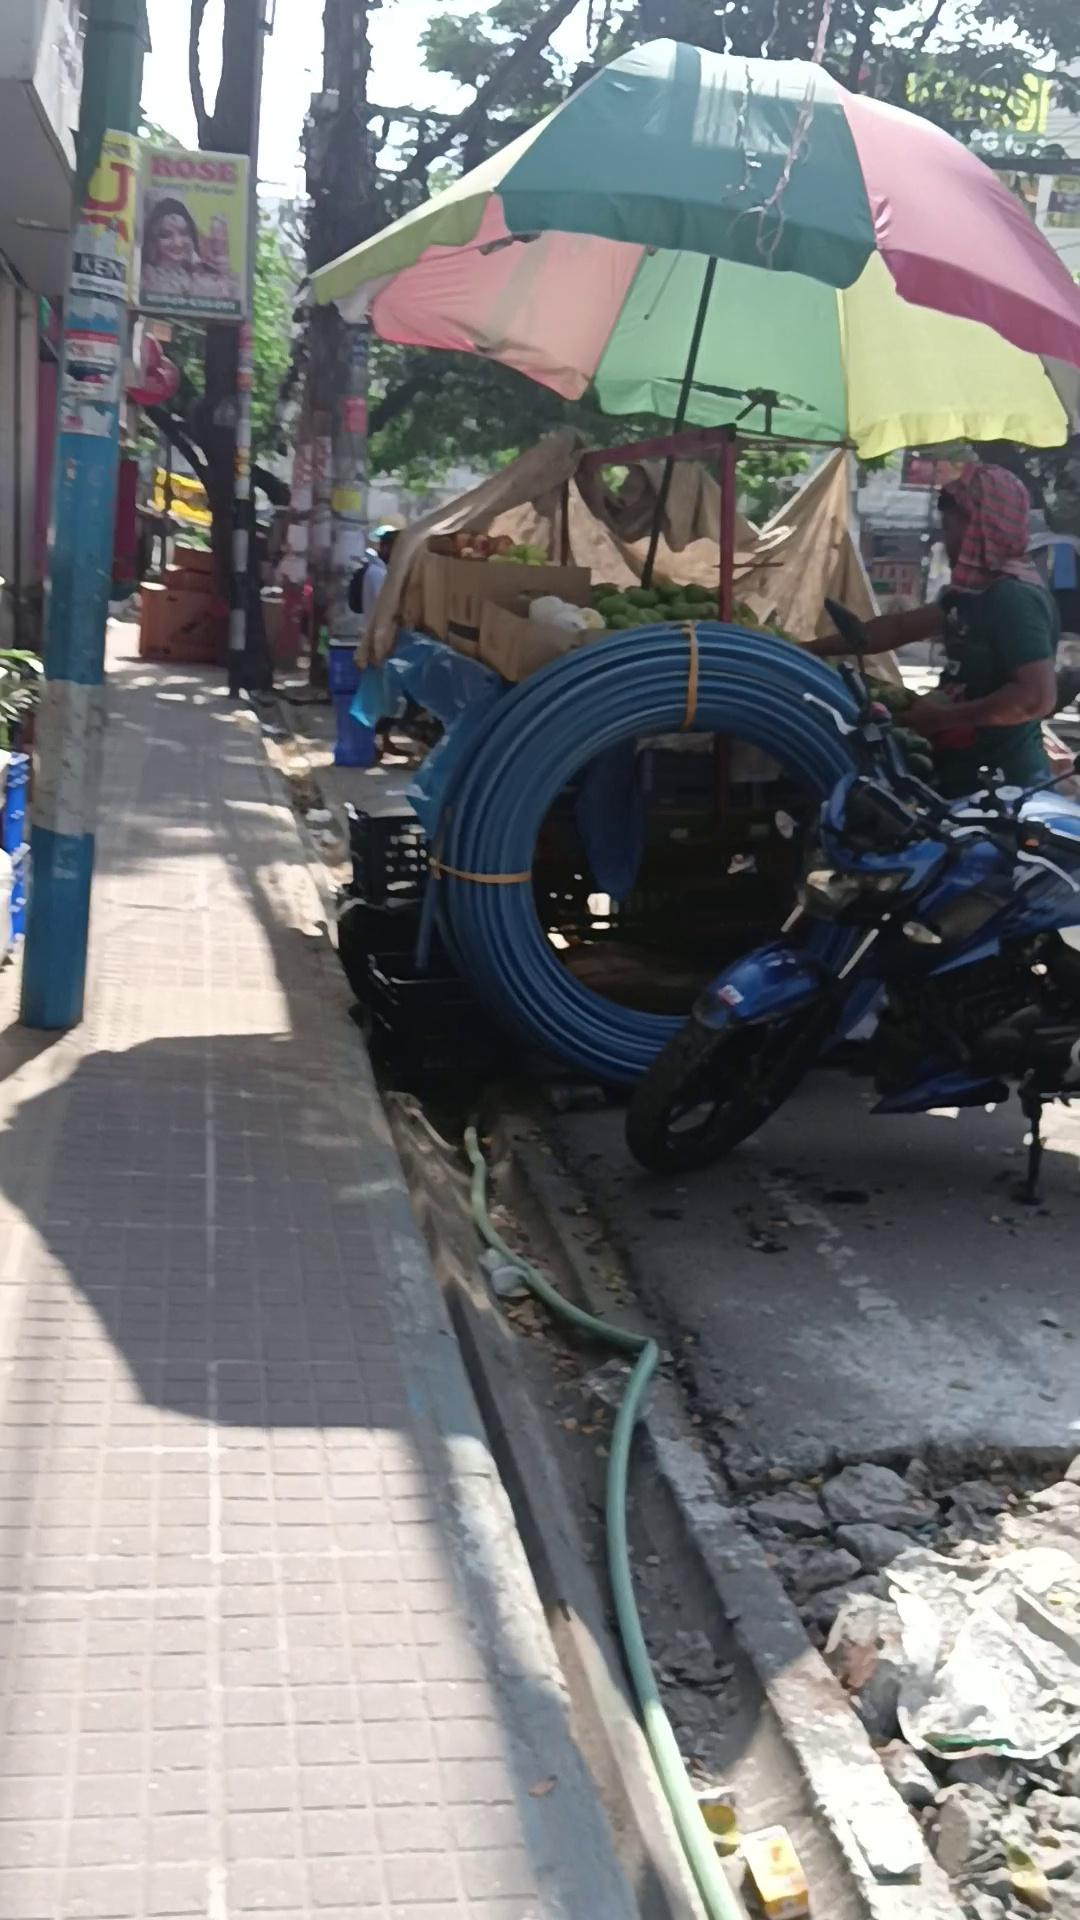Bench: (512, 1400, 1080, 1920)
Broken-road: (386, 1033, 960, 1920)
Cat: (324, 634, 376, 766), (0, 748, 30, 853)
Construction-barrier: (622, 596, 1077, 1199)
Crosswalk: (135, 570, 227, 663)
Curb: (796, 462, 1062, 802), (138, 196, 227, 299)
Dog: (17, 3, 152, 1030), (198, 1, 276, 698)
Garbage: (1, 609, 650, 1916)
